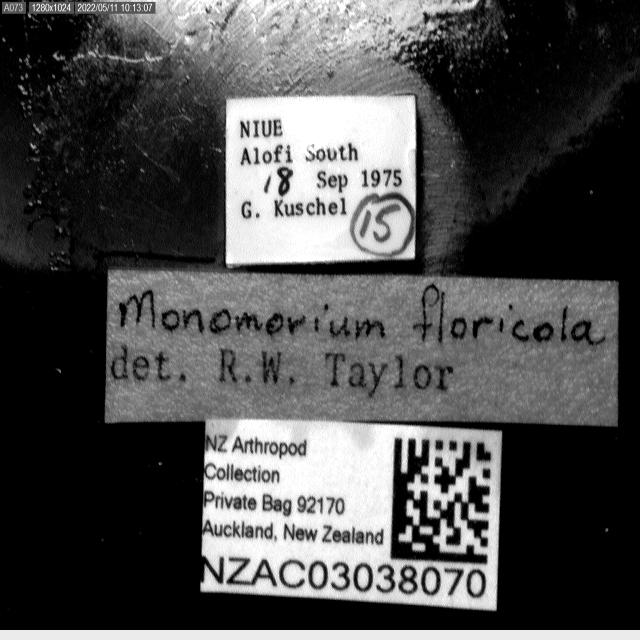mixed_label: (105, 269, 619, 427), (226, 95, 416, 266)
typed_label: (201, 419, 501, 611)
